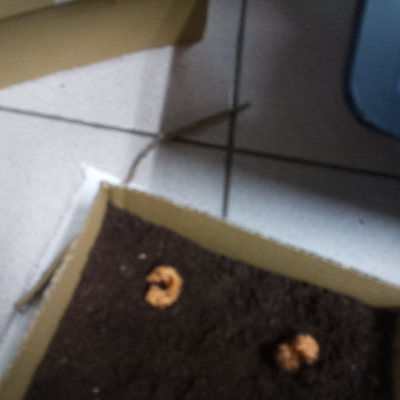eggs: (265, 330, 325, 376), (140, 257, 186, 312)
